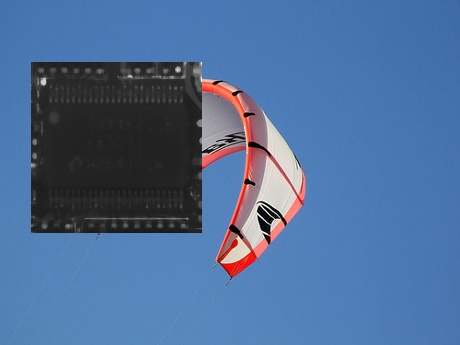PIN: (44, 183, 187, 212), (45, 80, 187, 105)
kite: (85, 79, 307, 282)
